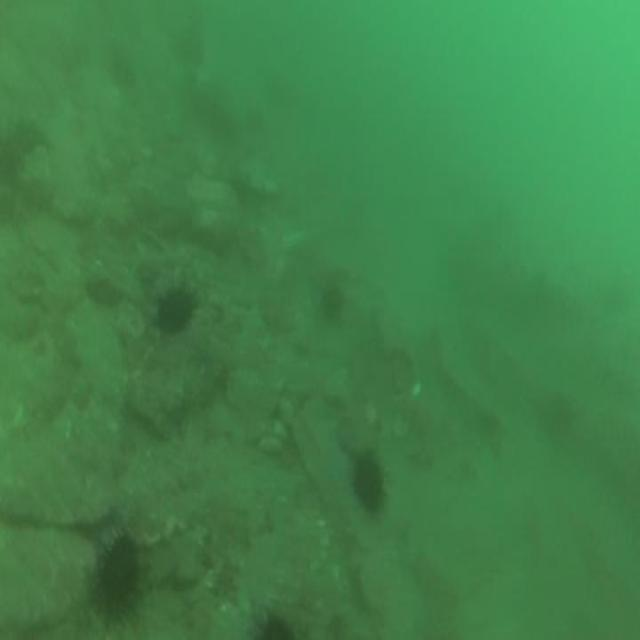echinus: (91, 536, 137, 624), (351, 455, 388, 511), (154, 290, 192, 328), (317, 281, 345, 324)
